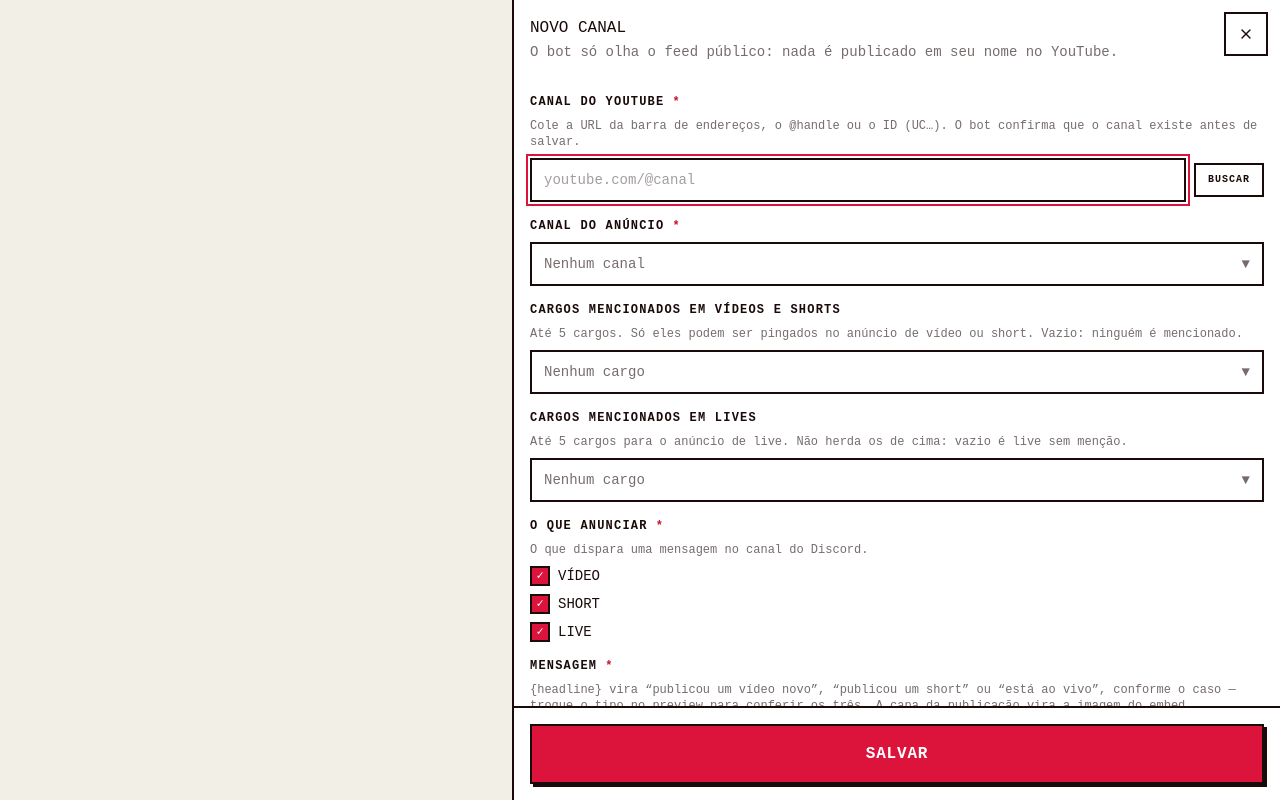
Test: AccountSheet — campo do canal › resolve a URL colada e mostra o canal encontrado sem sair da sheet
Type "https://www.youtube.com/@LofiGirl" into the field with placeholder "youtube.com/@canal" at (858, 180), box [530,158,1186,202]
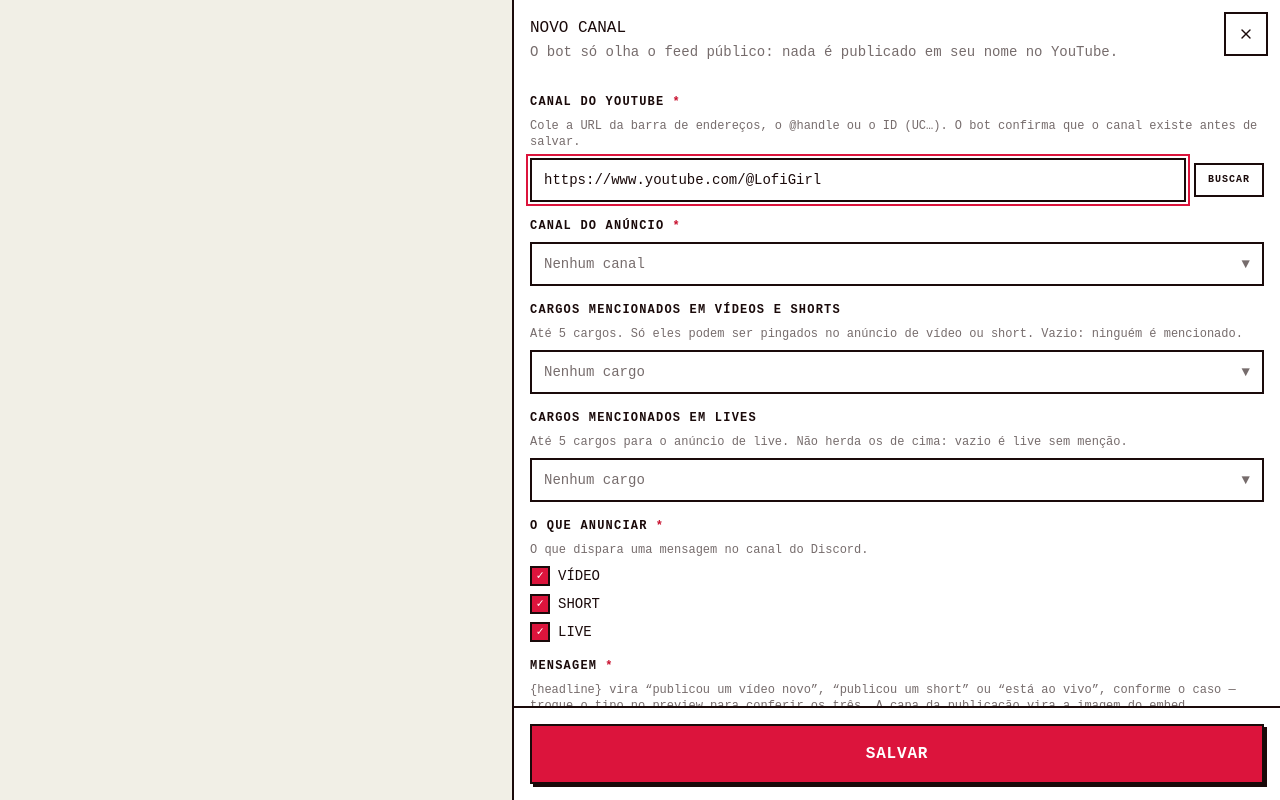
Click the button "BUSCAR" at (1229, 180), box [1194,163,1264,197]
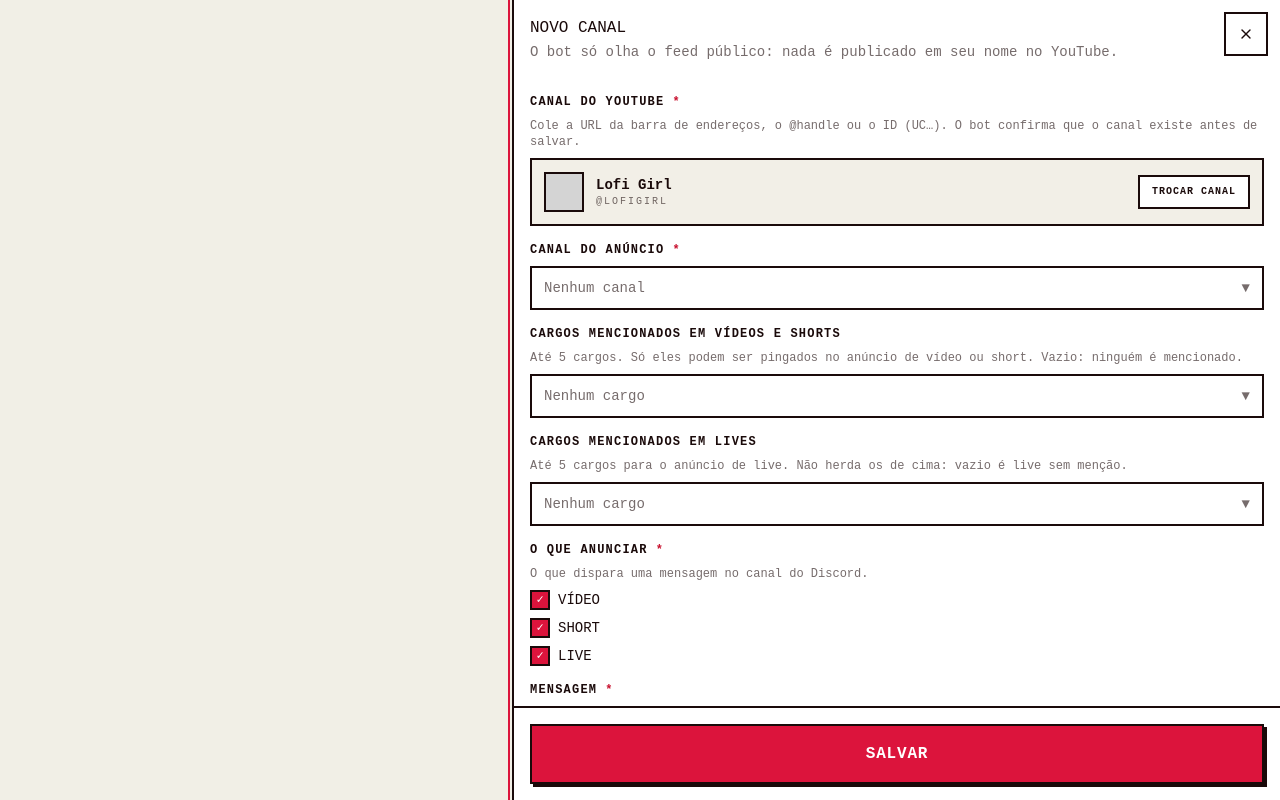
Check: the field with placeholder "youtube.com/@canal" is not shown
Check: the text "Lofi Girl" is shown, box [596,175,672,195]
Check: the text "@LofiGirl" is shown, box [596,195,672,209]
